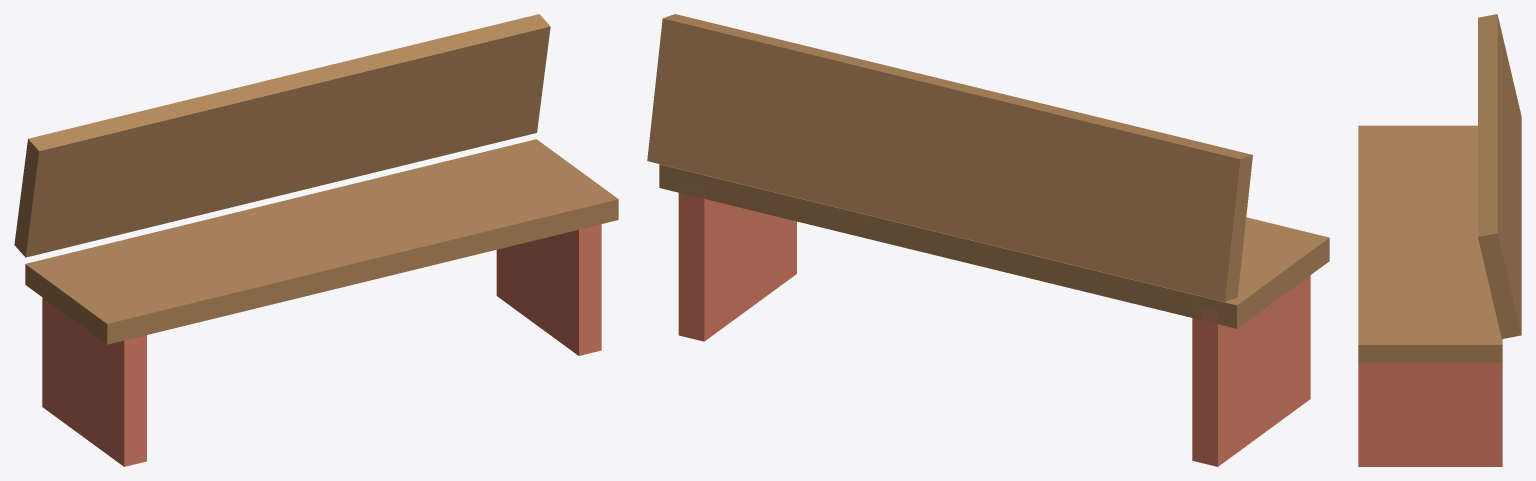
The model's file is bench_deco.glb.
The picture shows the model from 3 angles, left to right: view 1: azimuth 30°, elevation 25°; view 2: azimuth 150°, elevation 25°; view 3: azimuth 270°, elevation 25°; orthographic projection. The views are drawn at different scales.
Parts seen in each view (by area): view 1: bench_deco; view 2: bench_deco; view 3: bench_deco.
Boxes of the visible parts, <box> form: bench_deco: <box>14,14,618,466</box>; bench_deco: <box>647,14,1329,466</box>; bench_deco: <box>1358,14,1521,466</box>.
Bounding box in the file's own units: 1.8 × 0.9229 × 0.5658.
